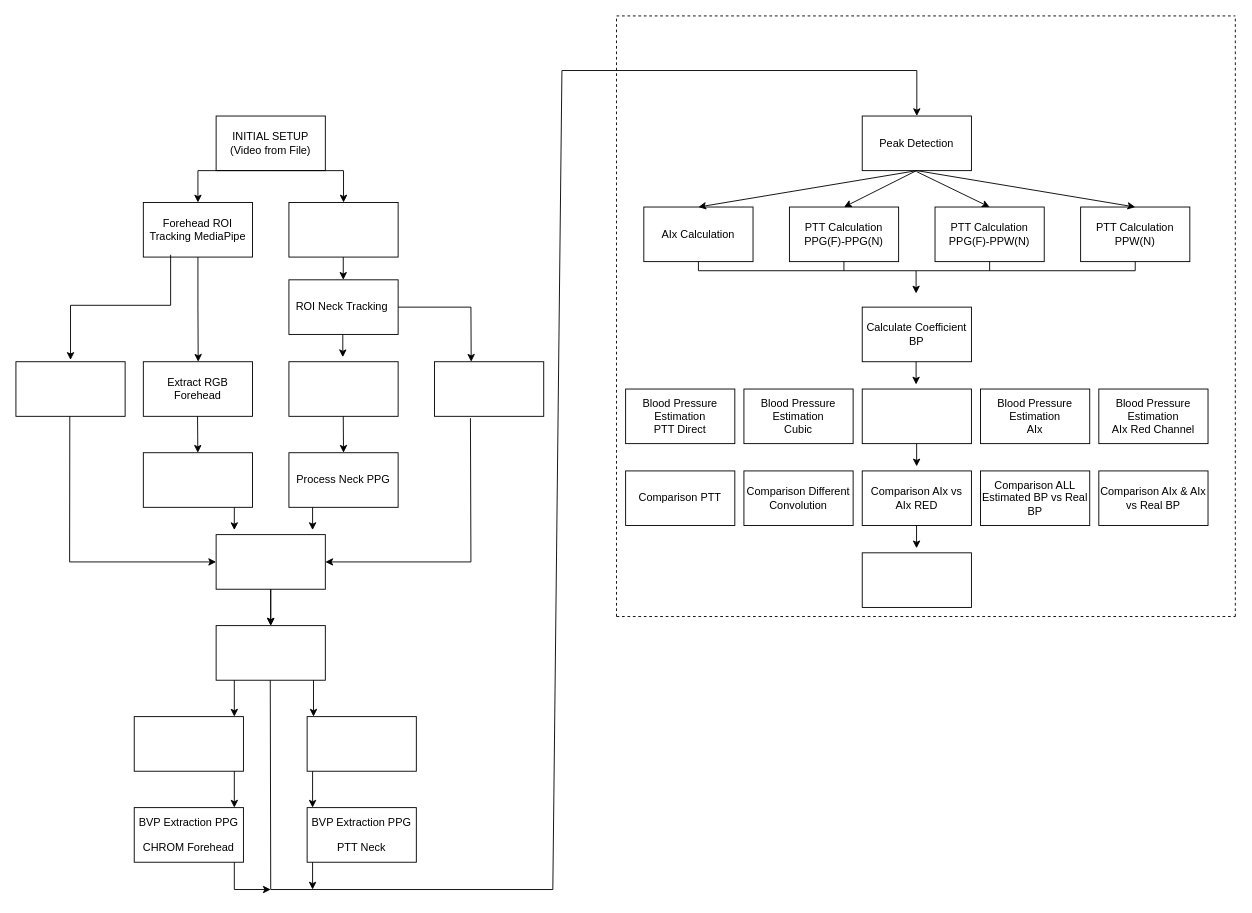
Image size: 1252x913. Some labels were removed from this diagram. The centre of each missing label's shape, as x and y in pixels:
"Analysis" belongs at (916,579).
"Bandpass Filtering" belongs at (270,652).
"Blood Pressure Estimation Spline" belongs at (916,416).
"Calculate Neck PPW" belongs at (489,388).
"Cubic Convolution" belongs at (188,743).
"Cubic Spline" belongs at (361,743).
"Detrending" belongs at (270,561).
"Extract R Forehead" belongs at (70,388).
"Extract RGB/G Neck" belongs at (343,388).
"Process Forehead PPG" belongs at (197,479).
"ROI Neck Selection" belongs at (343,229).
